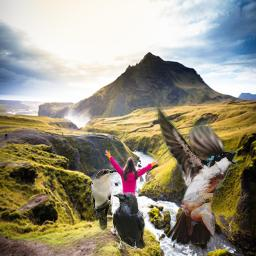Crow: (112, 192, 146, 249)
Cuckoo: (91, 169, 117, 231)
Swallow: (152, 101, 238, 244)
